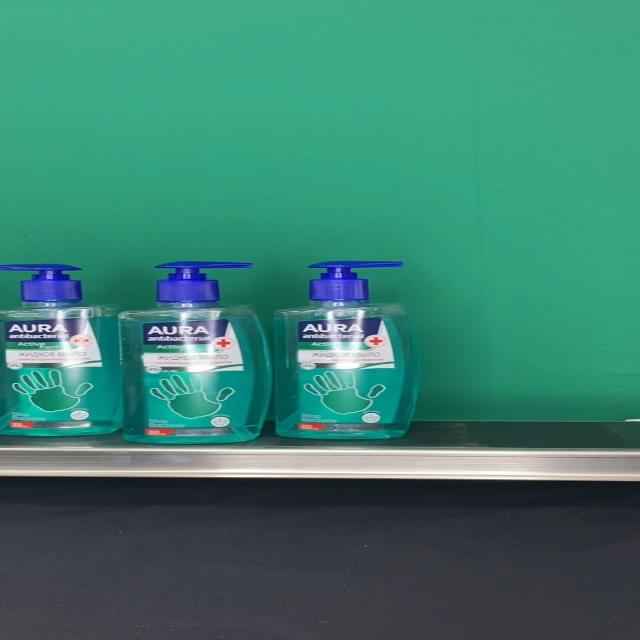Bottle: (118, 260, 272, 442), (272, 260, 421, 439), (0, 264, 125, 434)
Cap: (307, 260, 406, 302), (154, 261, 252, 303), (0, 264, 84, 302)
